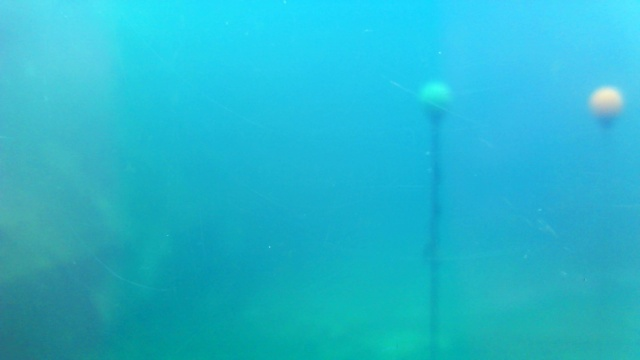buoy_green: (417, 82, 452, 118)
buoy_red: (589, 87, 622, 123)
